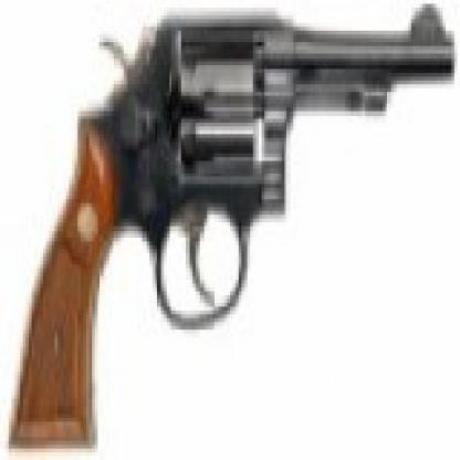weapon: (8, 4, 456, 448)
